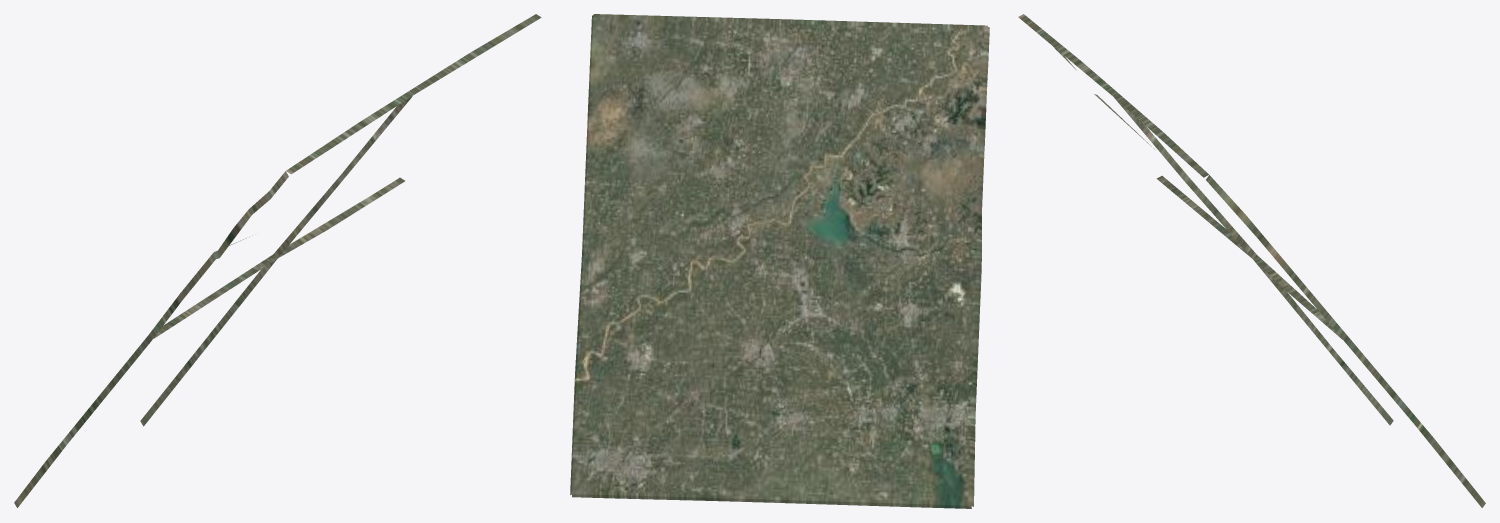
3 views of the same model, side by side, from view 1: azimuth 30°, elevation 25°; view 2: azimuth 150°, elevation 25°; view 3: azimuth 270°, elevation 25° (orthographic). The views are drawn at different scales.
Bounding box in the file's own units: 156651 × 129123 × 140185.
1 material, 1 textured.
